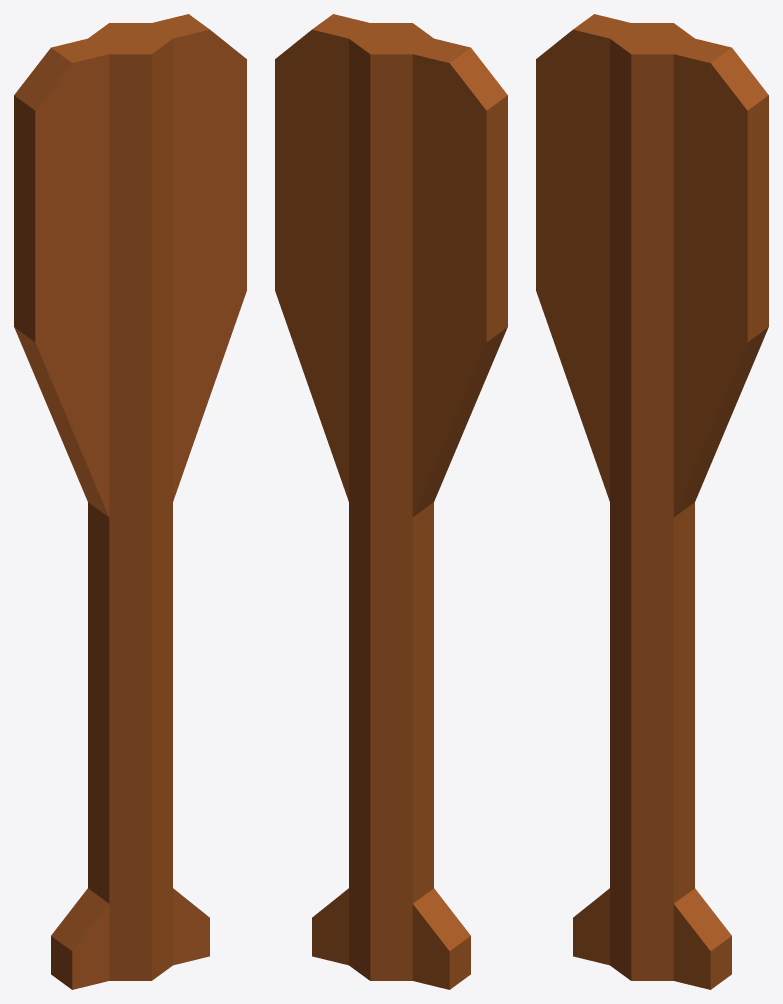
Rendered from Paddle.fbx.
3 renders of one model, left to right at view 1: azimuth 30°, elevation 25°; view 2: azimuth 150°, elevation 25°; view 3: azimuth 330°, elevation 25°, orthographic.
Visible parts, largest first — view 1: Padd;e; view 2: Padd;e; view 3: Padd;e.
Boxes of the visible parts, bbox=[...] form: Padd;e: bbox=[14, 14, 246, 989]; Padd;e: bbox=[275, 14, 507, 989]; Padd;e: bbox=[536, 14, 768, 989].
Bounding box in the file's own units: 0.2866 × 1.2 × 0.1.
